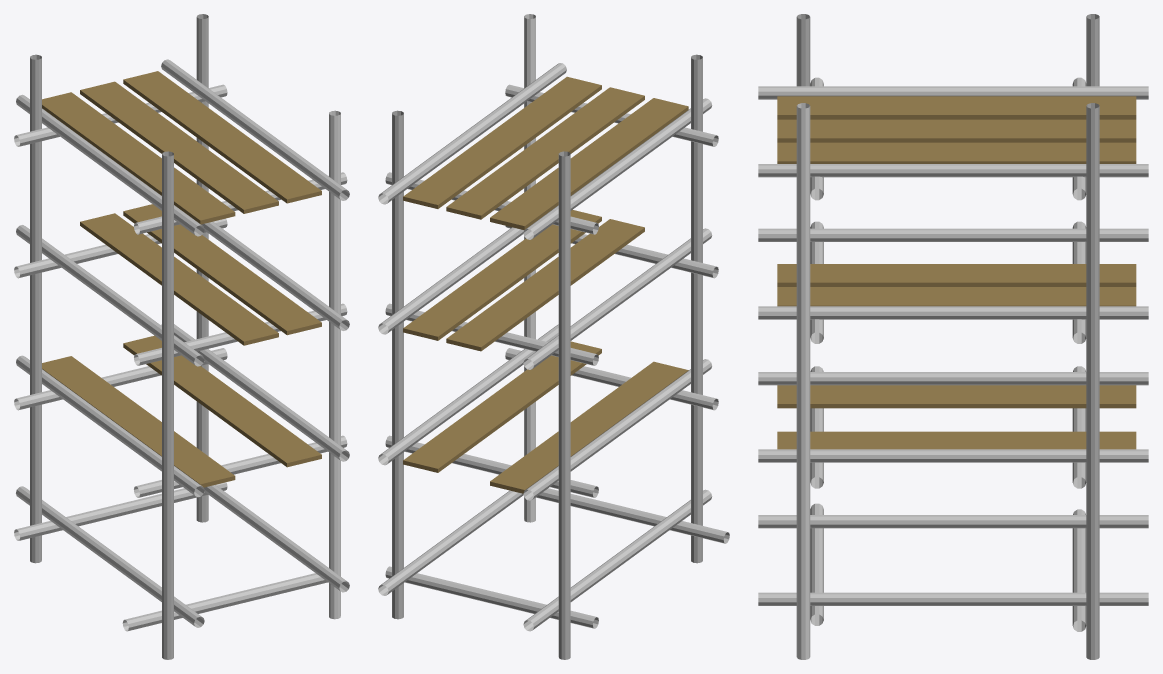
Rendered from scaffolding7.fbx.
3 renders of one model, left to right at view 1: azimuth 30°, elevation 25°; view 2: azimuth 150°, elevation 25°; view 3: azimuth 270°, elevation 25°, orthographic. The views are drawn at different scales.
Parts seen in each view (by area): view 1: pCube54, pCube58, pCylinder48, pCube60, pCube31, pCube52, pCube59, pCylinder87, pCube61, pCylinder36, pCylinder74, pCylinder81 (+15 smaller); view 2: pCylinder87, pCube54, pCube58, pCube60, pCube31, pCube52, pCube59, pCube61, pCylinder48, pCylinder47, pCylinder74, pCylinder41 (+15 smaller); view 3: pCylinder36, pCube31, pCube58, pCube61, pCylinder47, pCube60, pCube54, pCube59, pCube52, pCylinder52, pCylinder42, pCylinder37 (+13 smaller).
Boxes of the visible parts, left/top/right/bottom form: pCube54: left=123, top=71, right=321, bottom=203; pCube58: left=80, top=81, right=278, bottom=213; pCylinder48: left=162, top=151, right=173, bottom=659; pCube60: left=80, top=213, right=278, bottom=345; pCube31: left=42, top=92, right=235, bottom=224; pCube52: left=123, top=335, right=321, bottom=467; pCube59: left=123, top=204, right=321, bottom=335; pCylinder87: left=30, top=54, right=41, bottom=563; pCube61: left=42, top=356, right=235, bottom=487; pCylinder36: left=329, top=110, right=340, bottom=619; pCylinder74: left=161, top=59, right=349, bottom=200; pCylinder81: left=16, top=94, right=204, bottom=236; pCylinder87: left=558, top=151, right=570, bottom=659; pCube54: left=403, top=76, right=601, bottom=208; pCube58: left=446, top=87, right=644, bottom=219; pCube60: left=446, top=219, right=644, bottom=351; pCube31: left=490, top=98, right=688, bottom=229; pCube52: left=403, top=341, right=601, bottom=472; pCube59: left=403, top=209, right=601, bottom=340; pCube61: left=490, top=361, right=688, bottom=493; pCylinder48: left=691, top=54, right=702, bottom=563; pCylinder47: left=392, top=110, right=403, bottom=619; pCylinder74: left=378, top=63, right=566, bottom=204; pCylinder41: left=523, top=489, right=712, bottom=631; pCylinder36: left=796, top=103, right=810, bottom=659; pCube31: left=777, top=96, right=1136, bottom=119; pCube58: left=777, top=119, right=1136, bottom=142; pCube61: left=777, top=385, right=1136, bottom=408; pCylinder47: left=1086, top=103, right=1099, bottom=659; pCube60: left=777, top=264, right=1136, bottom=286; pCube54: left=777, top=142, right=1136, bottom=163; pCube59: left=777, top=287, right=1136, bottom=306; pCube52: left=777, top=431, right=1136, bottom=449; pCylinder52: left=758, top=306, right=1148, bottom=319; pCylinder42: left=758, top=449, right=1148, bottom=462; pCylinder37: left=758, top=228, right=1148, bottom=241.
Size of the model in its own units: 10.43 by 22.96 by 14.74.
